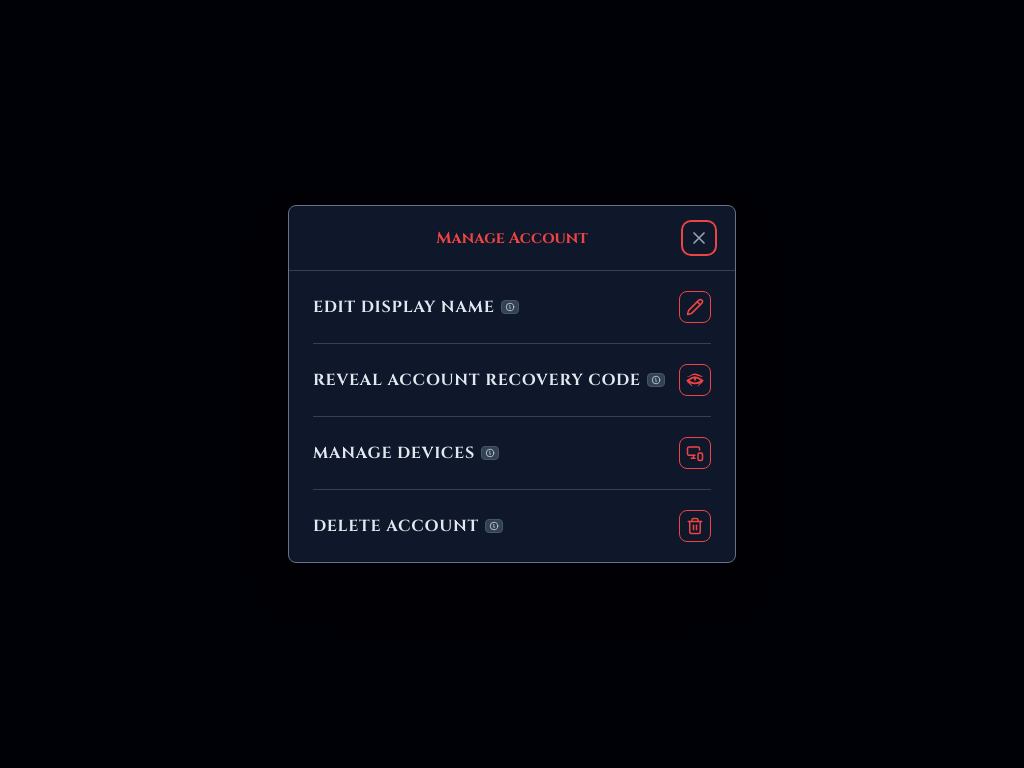
Scenario: Settings display name › pre-fills the input with the current first name
Step 1. Click the button named "Edit Display Name" → [695, 307], box [679,291,711,323]
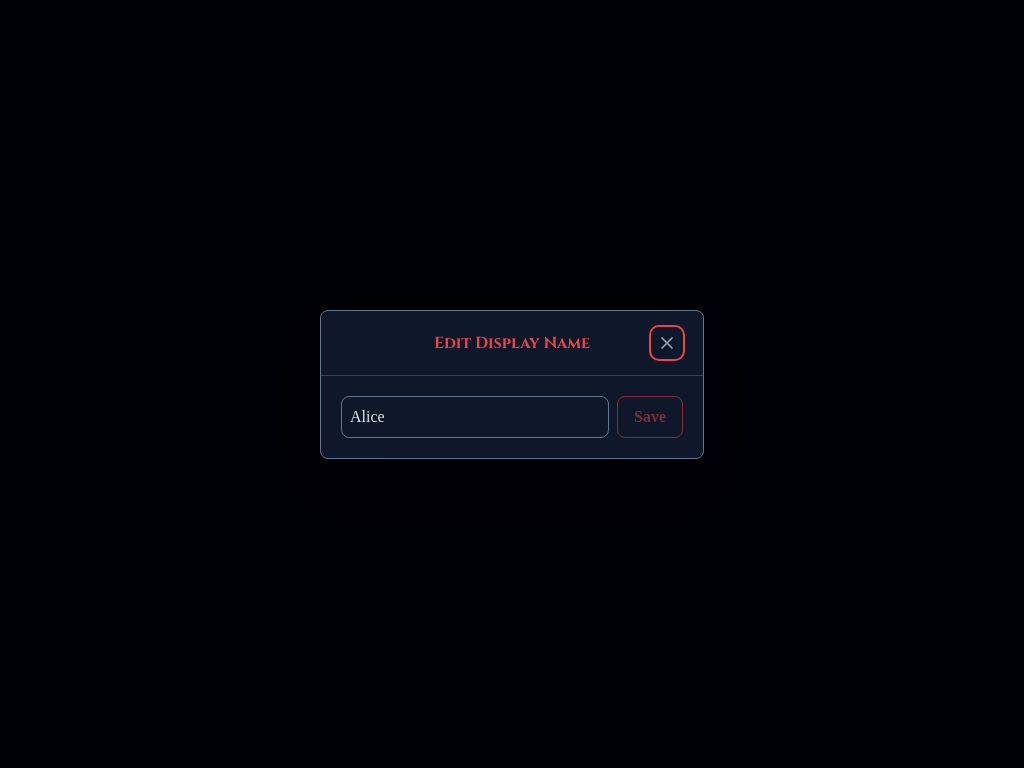
Result: the field with placeholder "e.g. David" holds "Alice" at [341,396,609,438]
